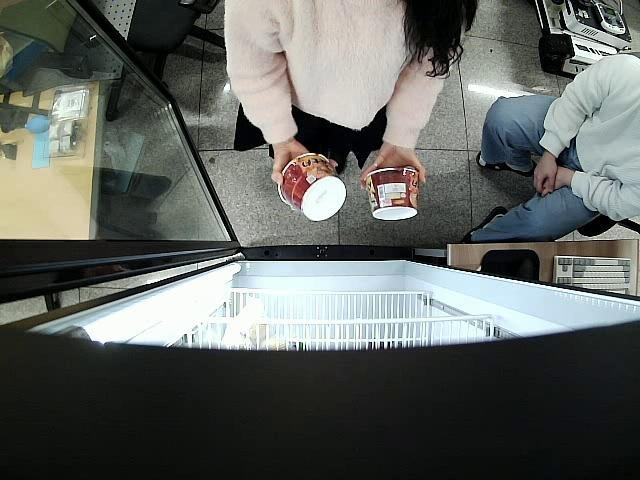05_nuguri_L: (276, 154, 347, 222), (364, 166, 418, 221)
